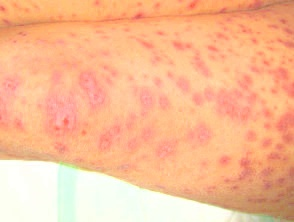SJS-TEN: (0, 0, 293, 219)
